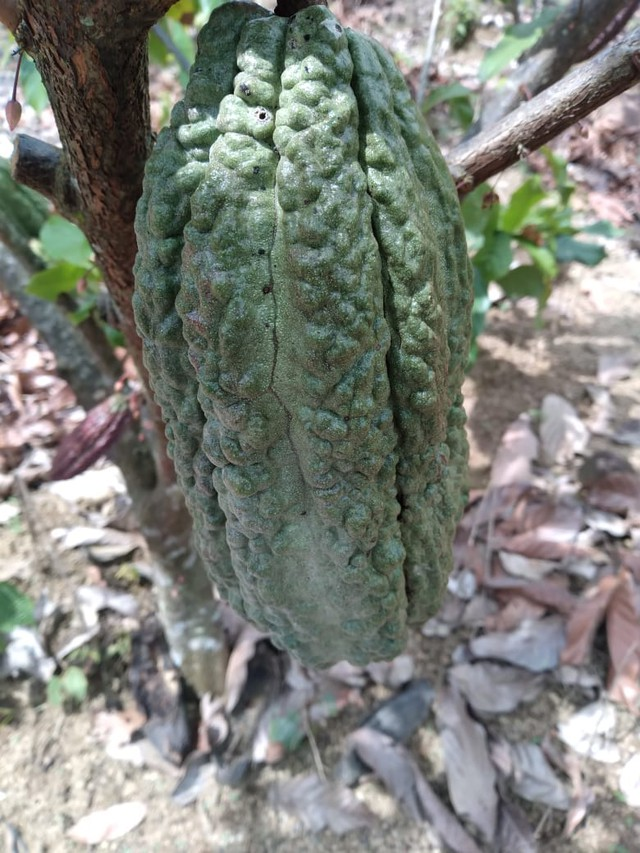Health: (96, 1, 492, 693)
